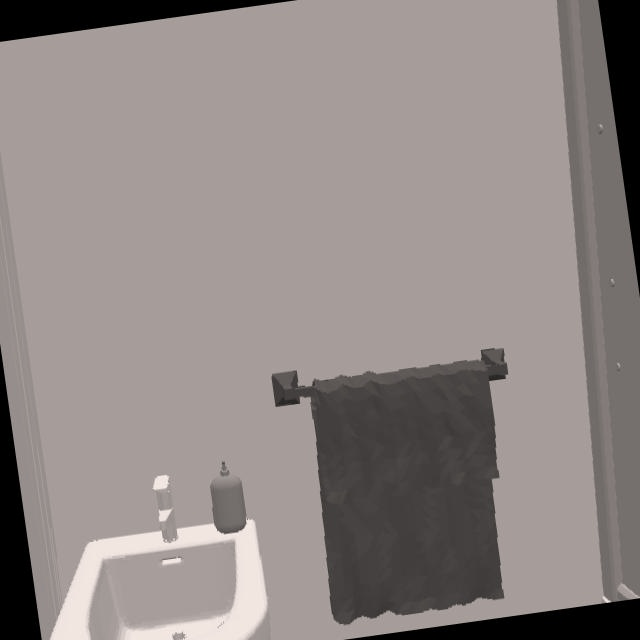shower: (559, 0, 640, 600)
